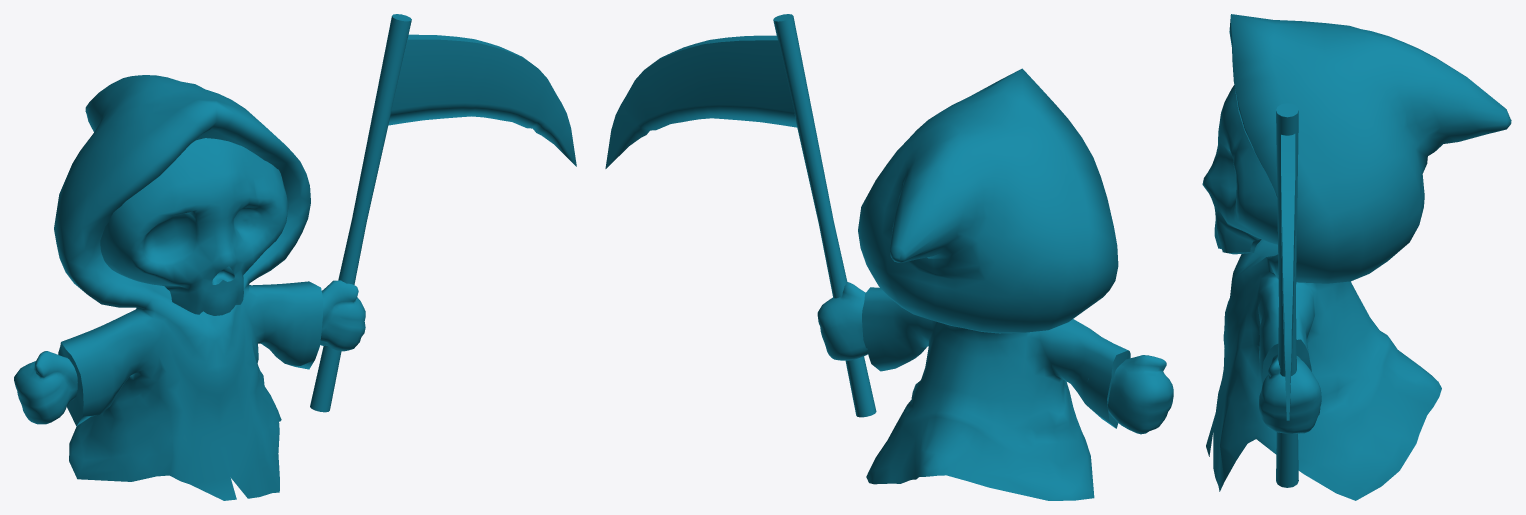
File: skull_Low.FBX
3 views of the same model, side by side, from view 1: azimuth 30°, elevation 25°; view 2: azimuth 150°, elevation 25°; view 3: azimuth 270°, elevation 25° (orthographic). The views are drawn at different scales.
Visible parts, largest first — view 1: Object004, Plane001; view 2: Object004, Plane001; view 3: Object004, Plane001.
Part boxes in pixels (x1,y1,x2,y2): Object004: (14,75,365,500); Plane001: (310,14,576,412); Object004: (817,68,1173,500); Plane001: (605,14,876,417); Object004: (1202,14,1511,500); Plane001: (1276,103,1298,487).
Bounding box in the file's own units: 148 × 106 × 63.64.
